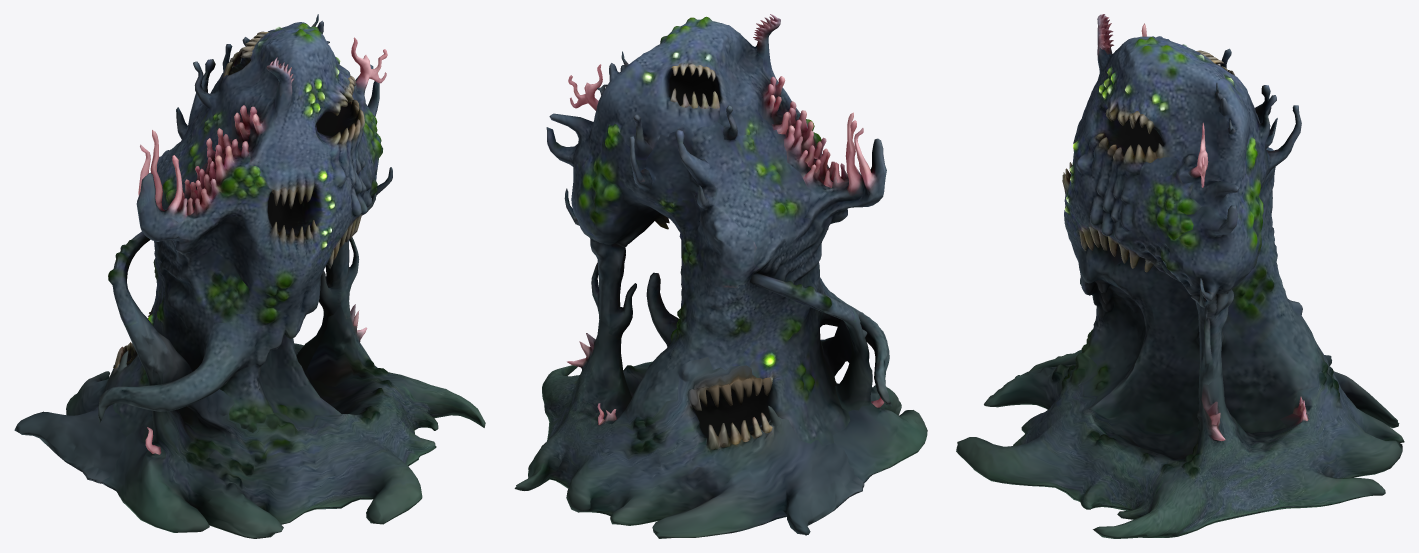
File: MZ4250 - Shoggoth.glb
The picture shows the model from 3 angles, left to right: view 1: azimuth 30°, elevation 25°; view 2: azimuth 150°, elevation 25°; view 3: azimuth 270°, elevation 25°; orthographic projection. The views are drawn at different scales.
Parts seen in each view (by area): view 1: ORGANIC BASE SPHERE.001; view 2: ORGANIC BASE SPHERE.001; view 3: ORGANIC BASE SPHERE.001.
Part boxes in pixels (box(x1,y1,x2,y2)): ORGANIC BASE SPHERE.001: box(14, 14, 485, 538); ORGANIC BASE SPHERE.001: box(514, 14, 927, 538); ORGANIC BASE SPHERE.001: box(956, 14, 1404, 538).
Bounding box in the file's own units: 1.63 × 1.84 × 1.73.
1 material, 1 textured.
